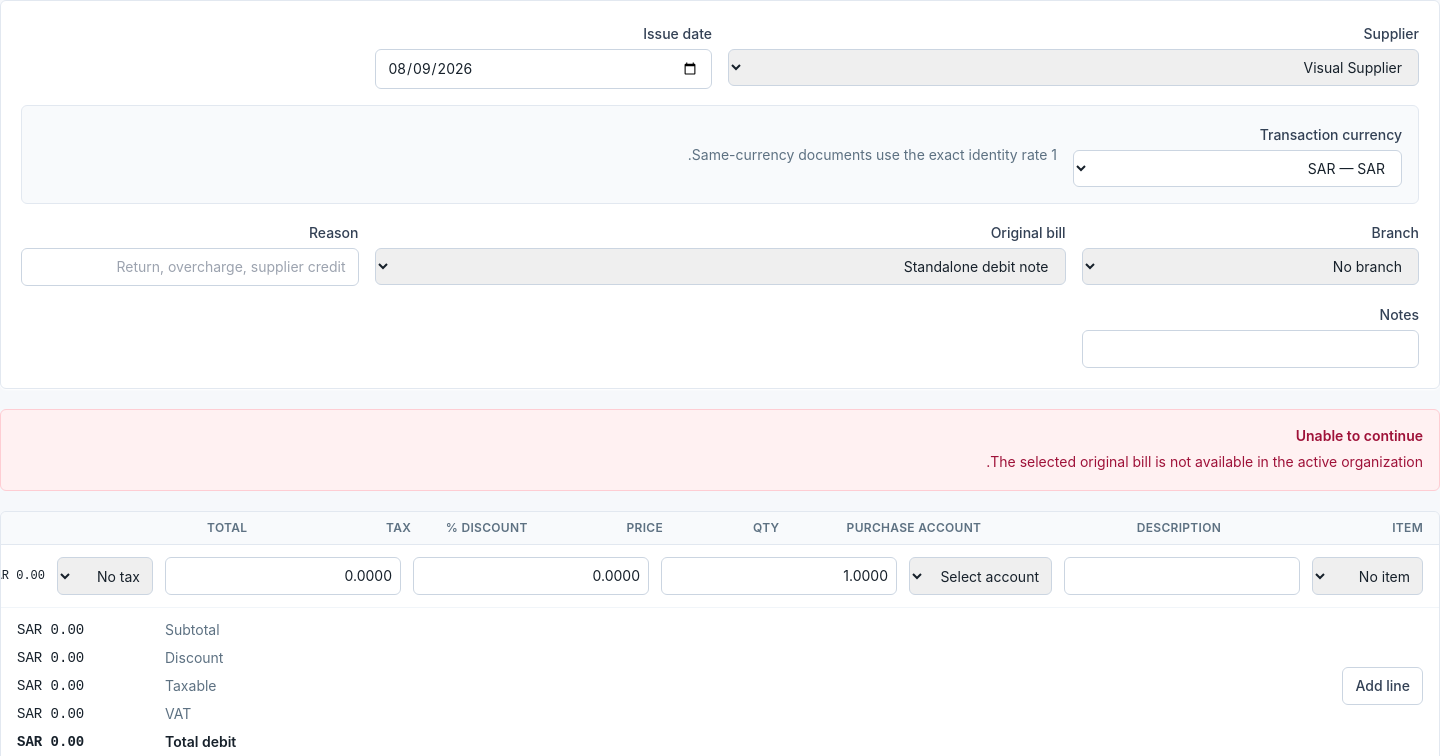
it: PurchaseDebitNoteForm › rejects a query-prefilled original bill when the active organization has no matching bill
Expected: the dropdown labelled "Supplier" shows "Visual Supplier", [728,49,1419,86]
Type "Debit adjustment" into the 6th field at (1182, 576), box [1064,557,1300,595]
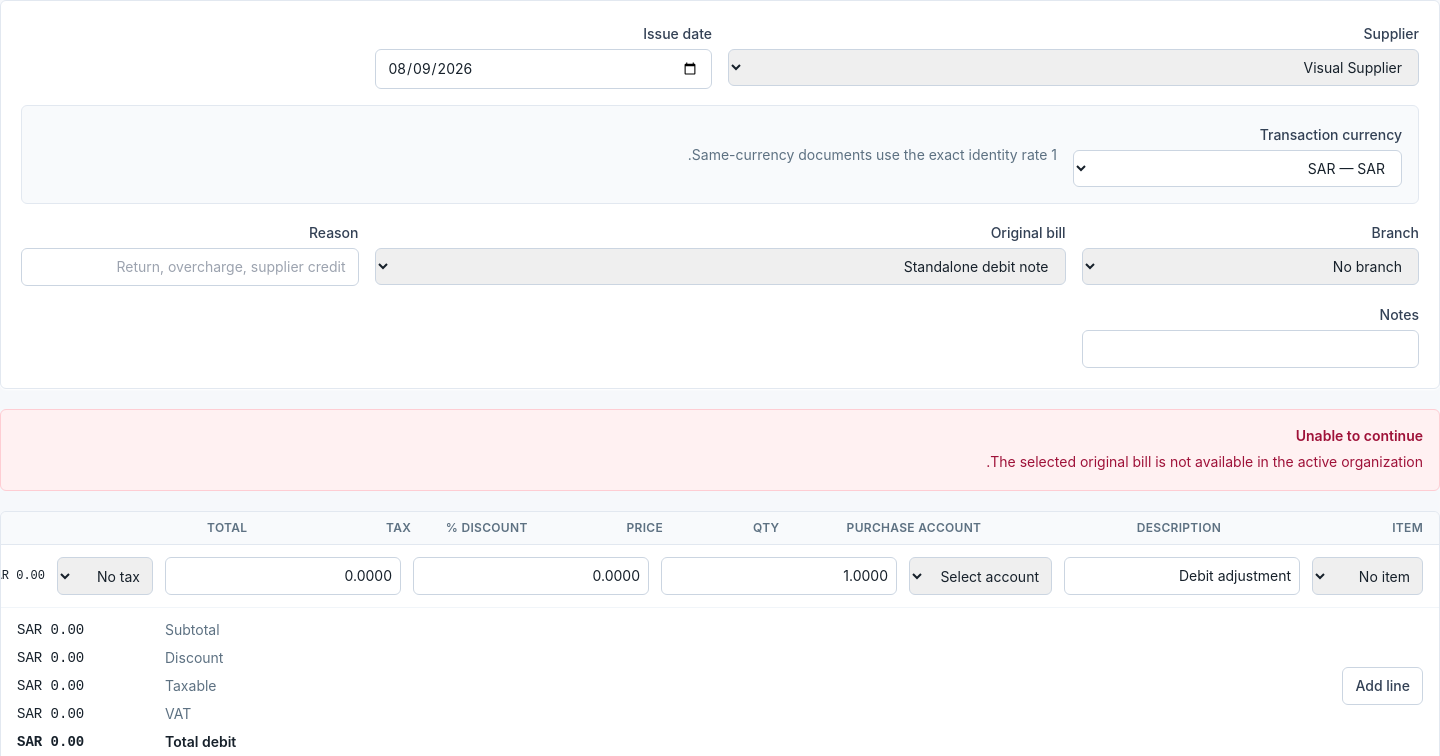
Replace the text in the 4th field with "100.0000" at (531, 576), box [413,557,649,595]
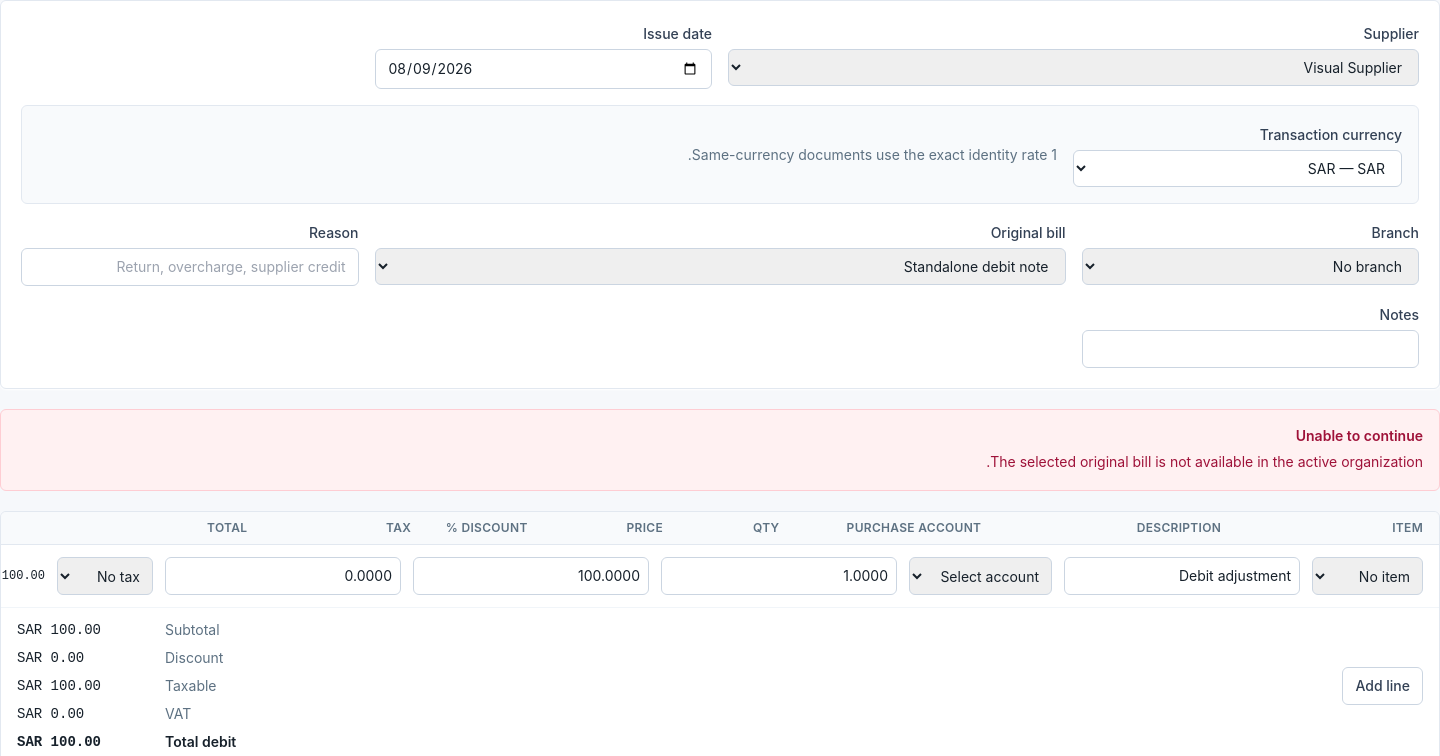
Select "5010 Purchases" in the 6th dropdown at (980, 576), box [909,557,1052,595]
(page scrolled)
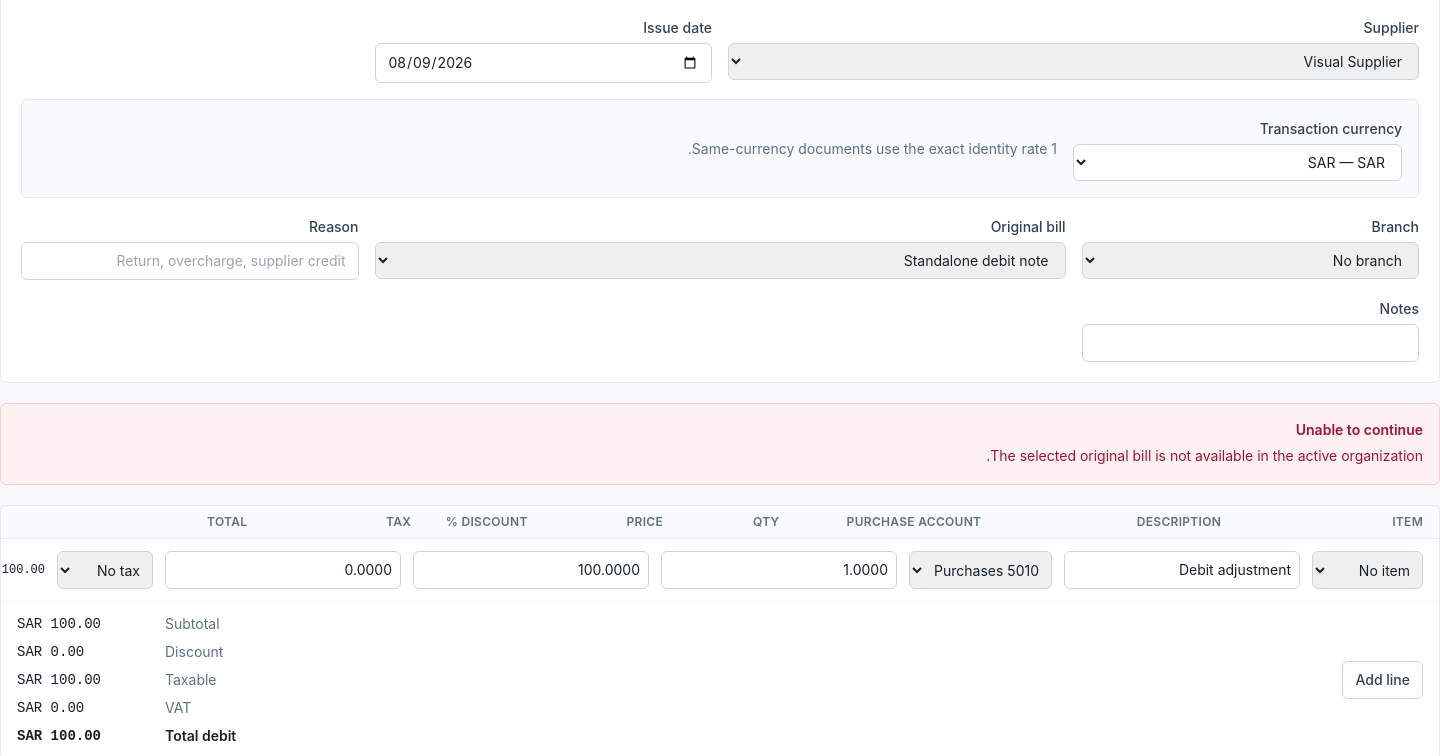
Submit the form named "Create draft debit note"
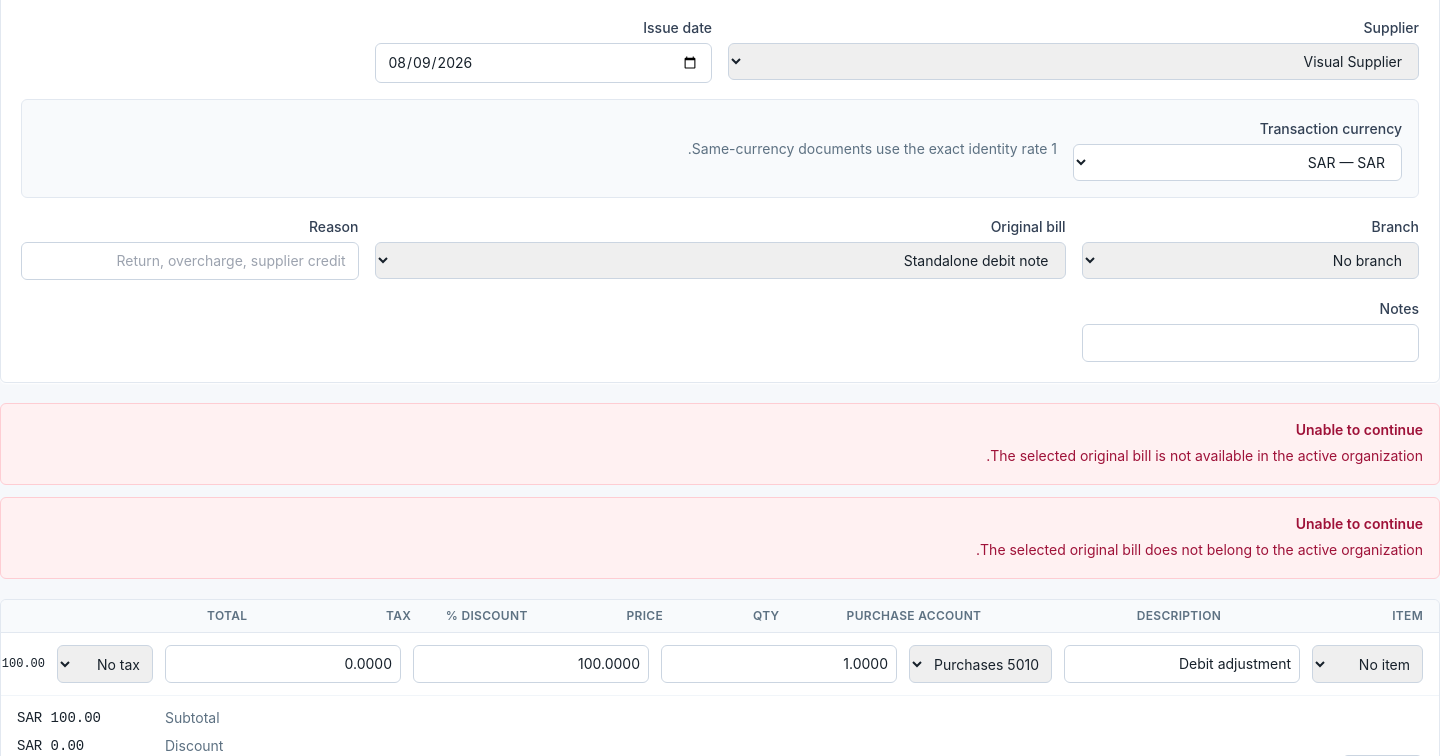
Now the text "original bill does not belong to the active organization" is shown, box [976,541,1423,558]
